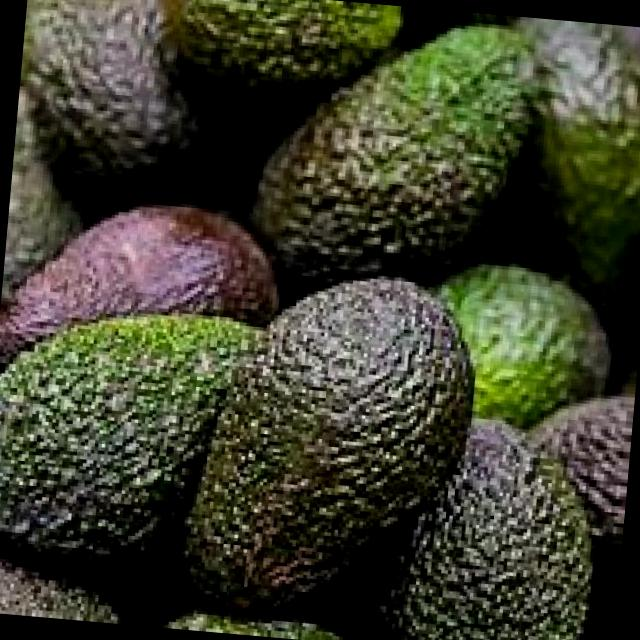avocado: (166, 270, 480, 630), (241, 0, 575, 302), (0, 287, 282, 577)
